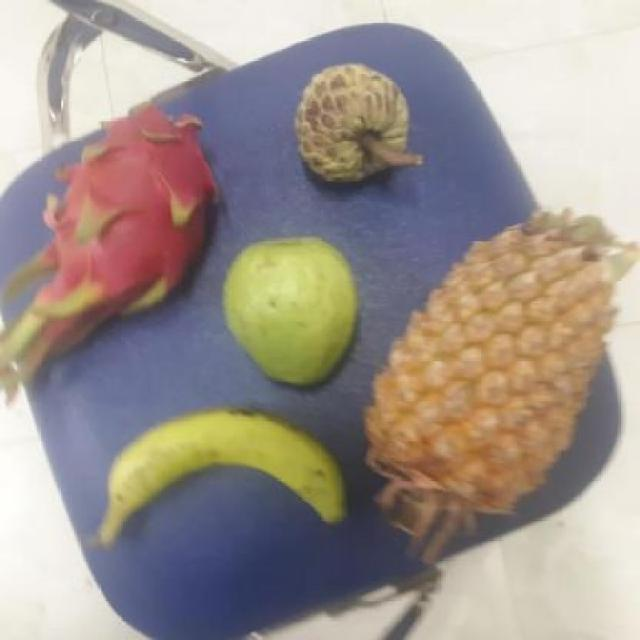banana: (89, 404, 348, 528)
dragon fruit: (47, 111, 218, 311)
guava: (216, 236, 364, 386)
sugar apple: (286, 66, 409, 186)
